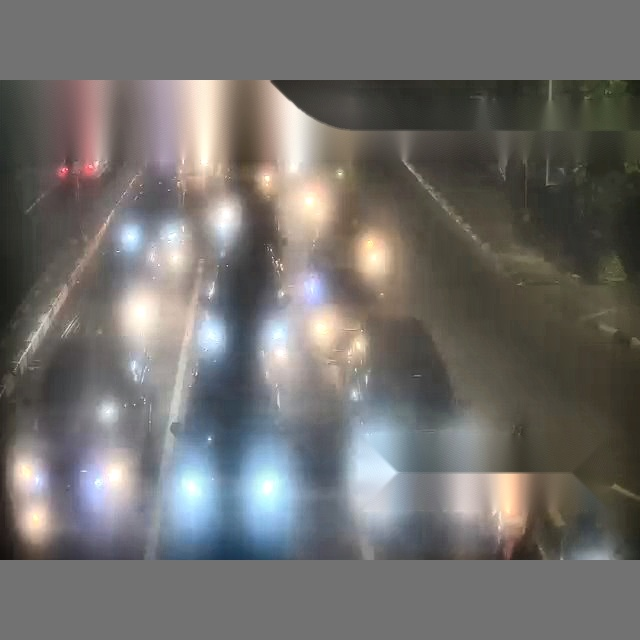Mobil: (152, 290, 303, 558)
Motor: (211, 194, 242, 267), (356, 228, 388, 298)
